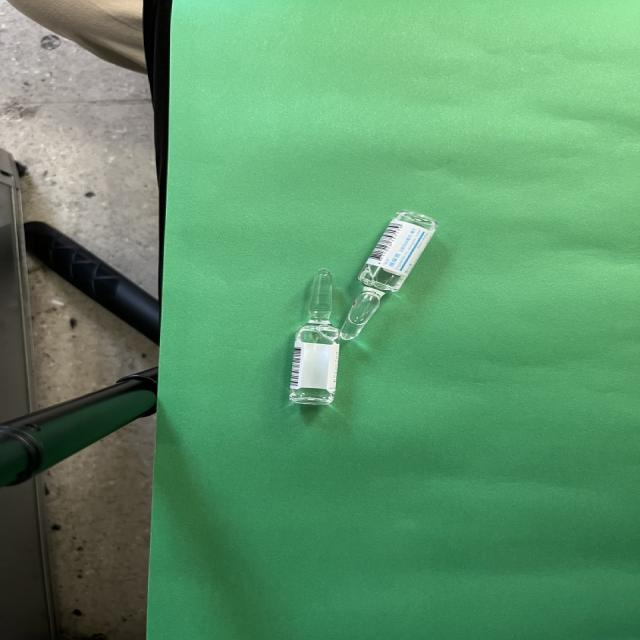Ampoules: (341, 210, 438, 342), (289, 270, 339, 407)
